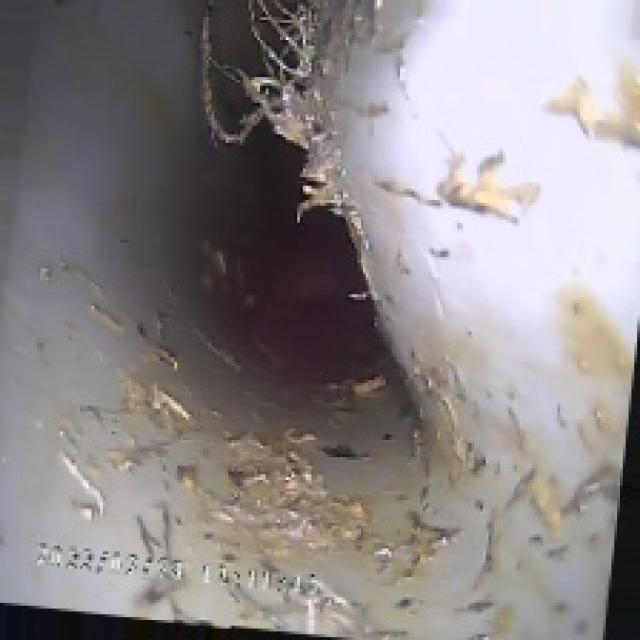shape_deformation: (186, 106, 563, 488)
